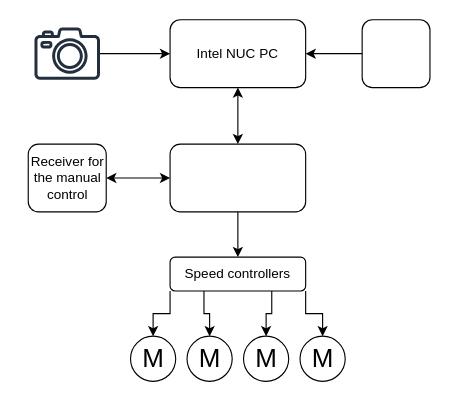
Image size: 450x401. Some labels were removed from this diagram. The shapes that lost their labels are listed below. From the top down, each one's box as (x1, y1, x2, y2) in pixels, then its label:
(34, 27, 99, 79): Intel RealSense camera
(361, 19, 430, 88): LiDAR (optional)
(169, 143, 306, 212): Pixhawk autopilot and sensors
